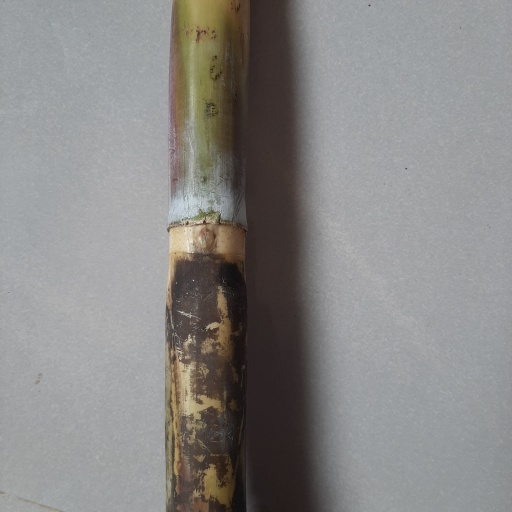Bud: (198, 228, 217, 256)
